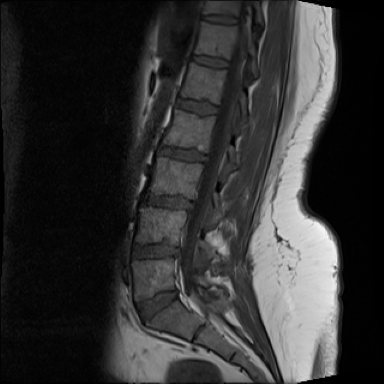Degenerative Disc Disease (DDD): (150, 141, 213, 168), (137, 189, 197, 213)
Lumbar Disc Bulge (LDB): (129, 280, 184, 330), (134, 188, 201, 215), (123, 234, 185, 262)
Normal IVD: (173, 93, 220, 119), (189, 51, 232, 71), (198, 9, 241, 26)
Spinal Stenosis (SS): (169, 239, 188, 262), (200, 147, 216, 167)
